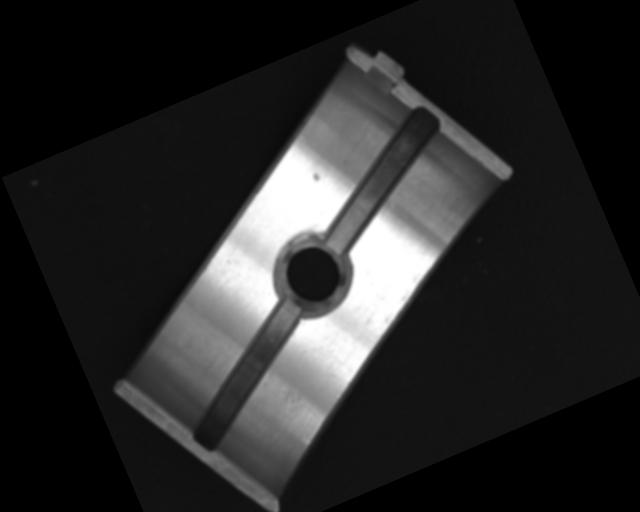bruise: (309, 170, 321, 182)
gap: (158, 296, 336, 454), (293, 102, 471, 258)
hole: (267, 228, 355, 322)
